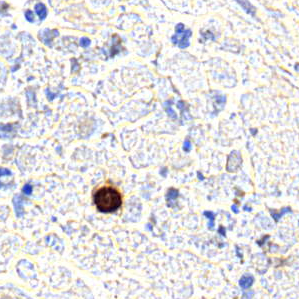Lymphocyte: (92, 183, 124, 212)
